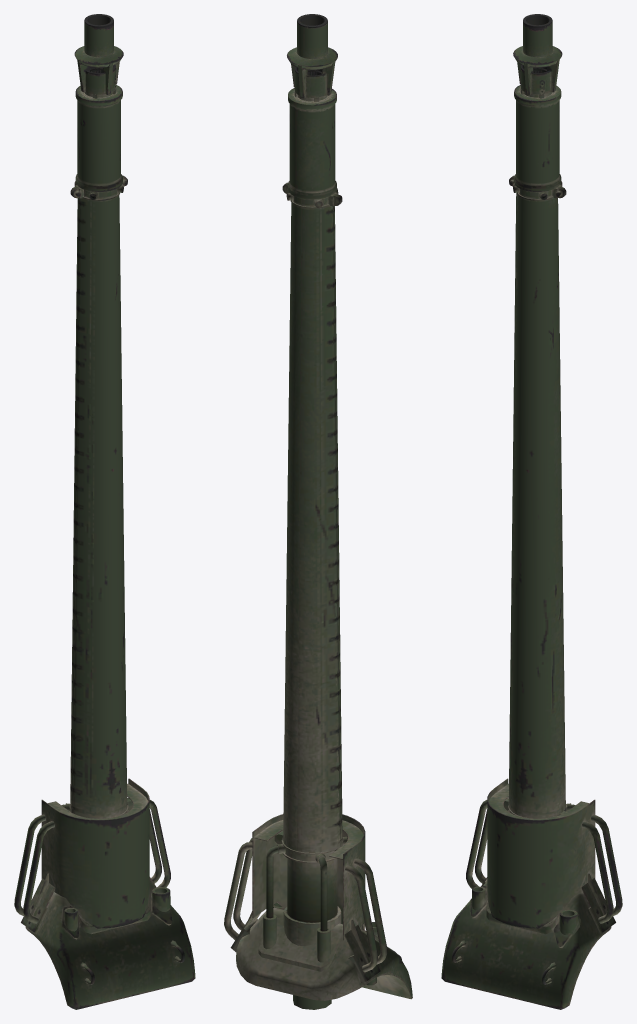
File: Gun_05.glb
3 views of the same model, side by side, from view 1: azimuth 30°, elevation 25°; view 2: azimuth 150°, elevation 25°; view 3: azimuth 330°, elevation 25° (orthographic). The views are drawn at different scales.
Parts seen in each view (by area): view 1: set_0_group_0; view 2: set_0_group_0; view 3: set_0_group_0.
Boxes of the visible parts, x1,y1,x2,y2 form: set_0_group_0: [14, 14, 195, 1009]; set_0_group_0: [224, 14, 412, 1009]; set_0_group_0: [441, 14, 622, 1009].
Size of the model in its own units: 1.05 by 6.46 by 0.8199.
Materials: 1 (1 with a texture image).
